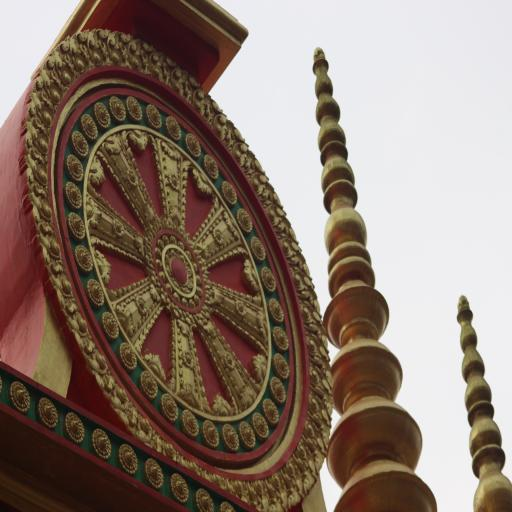hoa: (6, 382, 32, 416), (118, 437, 138, 481), (65, 406, 86, 446), (36, 395, 58, 431), (219, 419, 239, 455), (86, 273, 106, 308), (91, 426, 112, 459), (138, 365, 157, 401), (169, 470, 188, 506), (181, 408, 201, 440), (160, 390, 178, 424), (126, 92, 145, 124), (235, 205, 255, 235), (196, 482, 216, 512), (101, 308, 119, 340), (95, 95, 111, 131), (164, 110, 182, 142), (108, 94, 127, 124), (146, 455, 163, 488), (262, 262, 278, 296), (272, 351, 290, 381), (252, 411, 270, 441), (120, 340, 138, 370), (74, 246, 93, 274), (186, 128, 202, 161), (272, 324, 289, 355), (203, 414, 218, 448), (68, 211, 85, 240), (270, 373, 285, 405), (264, 394, 280, 424), (239, 420, 255, 450), (268, 297, 285, 325), (221, 177, 237, 206), (74, 127, 90, 156), (67, 155, 84, 180), (67, 181, 82, 209), (207, 152, 220, 184), (148, 100, 162, 128), (252, 234, 265, 264), (83, 116, 99, 140)
la: (199, 312, 256, 416), (103, 135, 160, 226), (83, 193, 147, 264), (173, 314, 208, 414), (152, 131, 188, 227), (115, 277, 164, 342), (196, 213, 242, 264), (211, 289, 267, 325), (242, 255, 264, 295), (190, 168, 215, 201), (210, 390, 234, 418), (90, 154, 107, 190), (253, 344, 267, 384), (146, 351, 164, 381), (94, 246, 108, 283), (124, 131, 151, 148)
